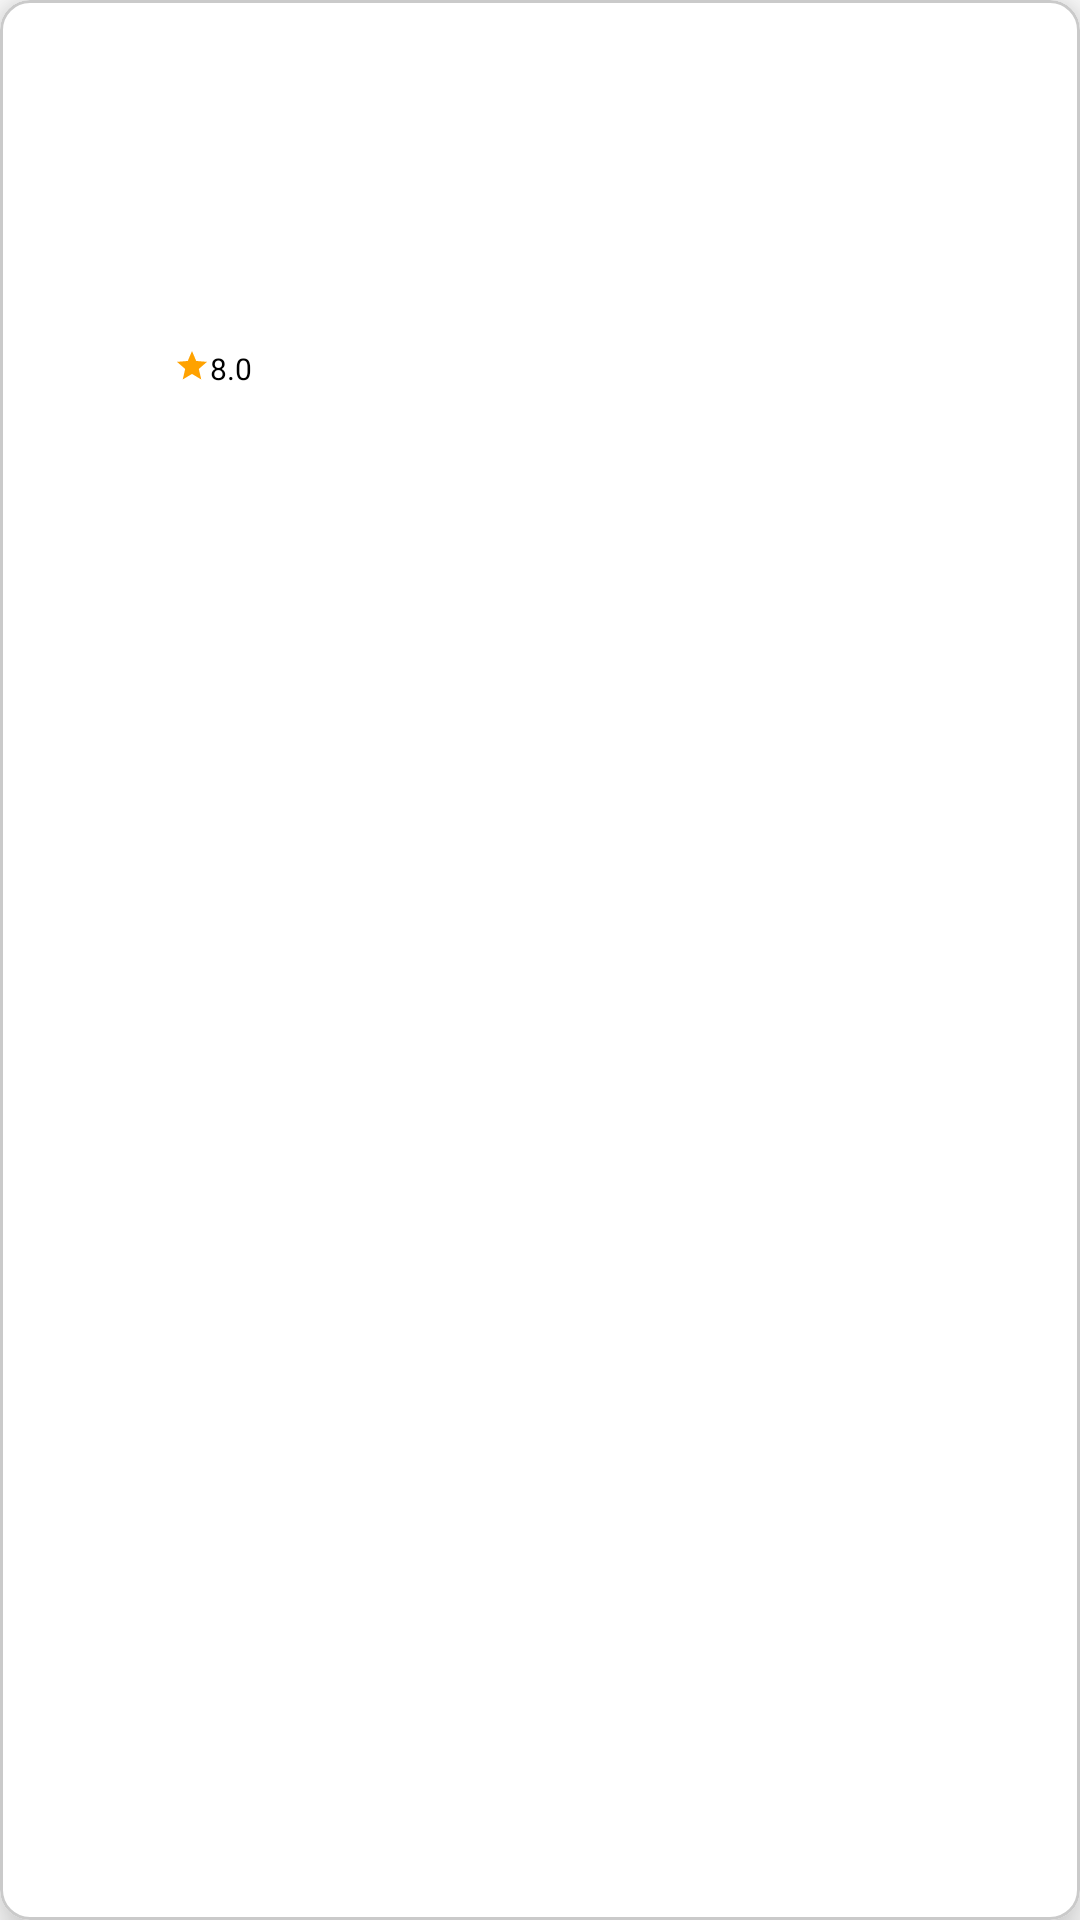

Where icons sit on this 1080x1920 app screen, as Rect(x1, y1, x2, y2):
star: Rect(177, 351, 207, 380)
